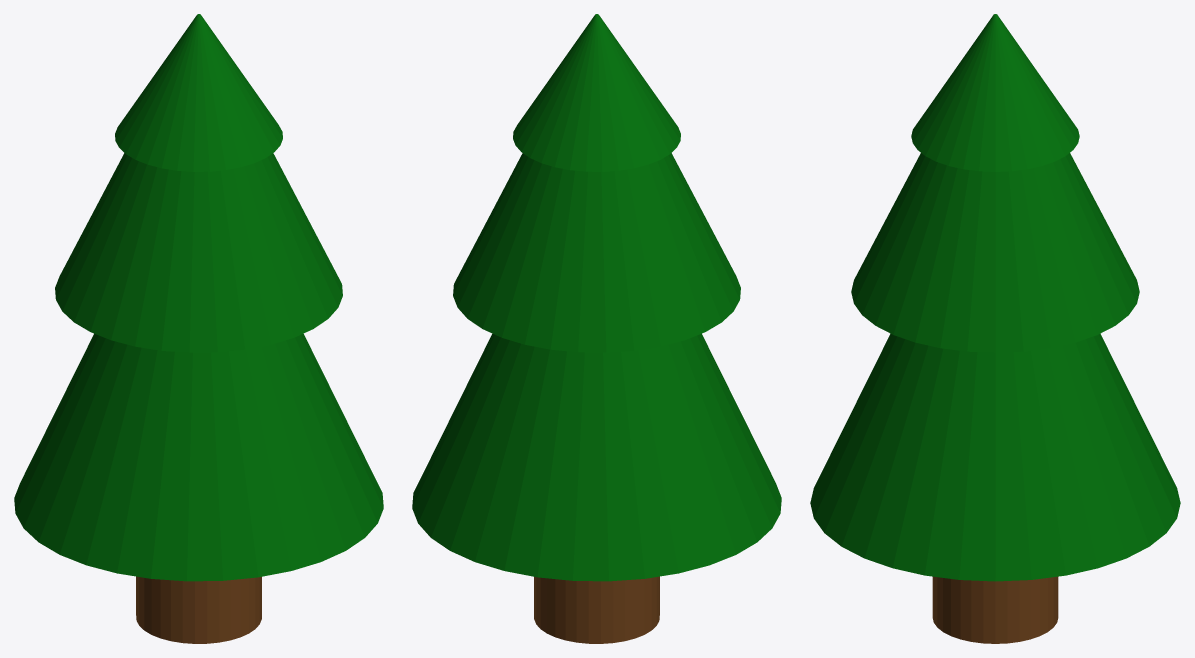
The model's file is Tree.fbx.
3 renders of one model, left to right at view 1: azimuth 30°, elevation 25°; view 2: azimuth 150°, elevation 25°; view 3: azimuth 270°, elevation 25°, orthographic.
Parts seen in each view (by area): view 1: Cylinder; view 2: Cylinder; view 3: Cylinder.
Boxes of the visible parts, x1=… form: Cylinder: x1=14, y1=14, x2=383, y2=643; Cylinder: x1=412, y1=14, x2=781, y2=643; Cylinder: x1=810, y1=14, x2=1180, y2=643.
Bounding box in the file's own units: 503 × 903 × 503.
